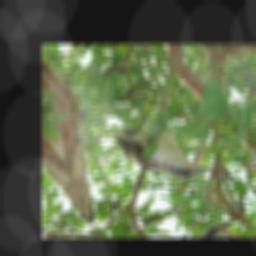Cuckoo: (109, 105, 212, 197)
